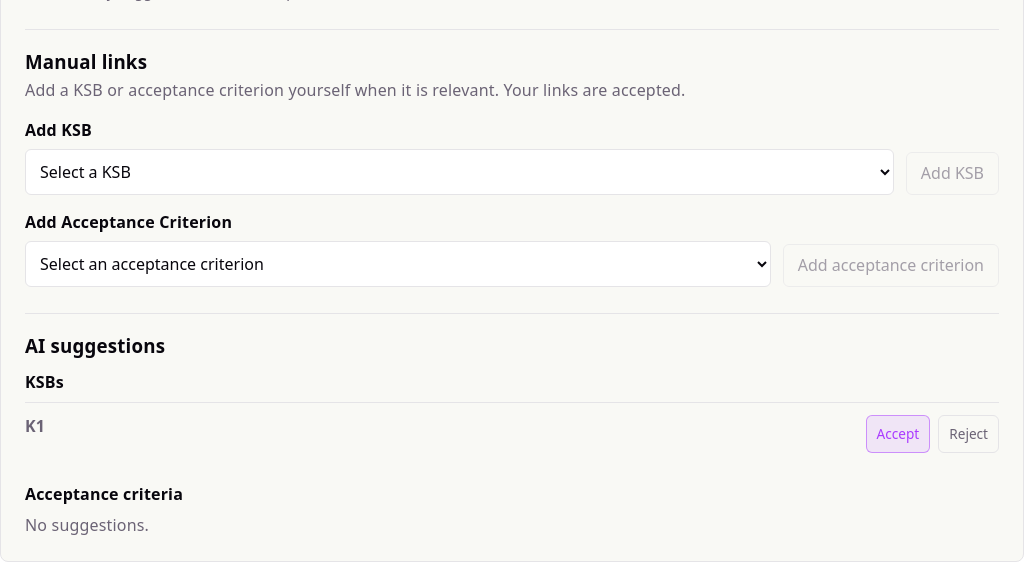
it: EvidenceEditor › updates review controls immediately after rejecting a suggestion
(page scrolled)
Click the button "Reject" at (969, 434), box x1=938 y1=415 x2=999 y2=452
(page scrolled)
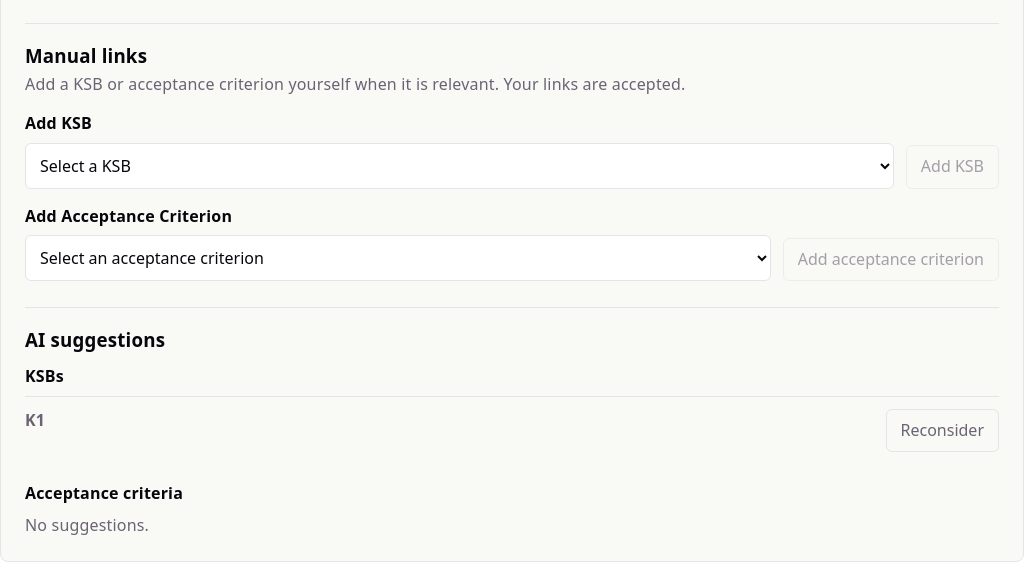
expect the button "Reconsider" is shown: met, box x1=886 y1=409 x2=999 y2=452
